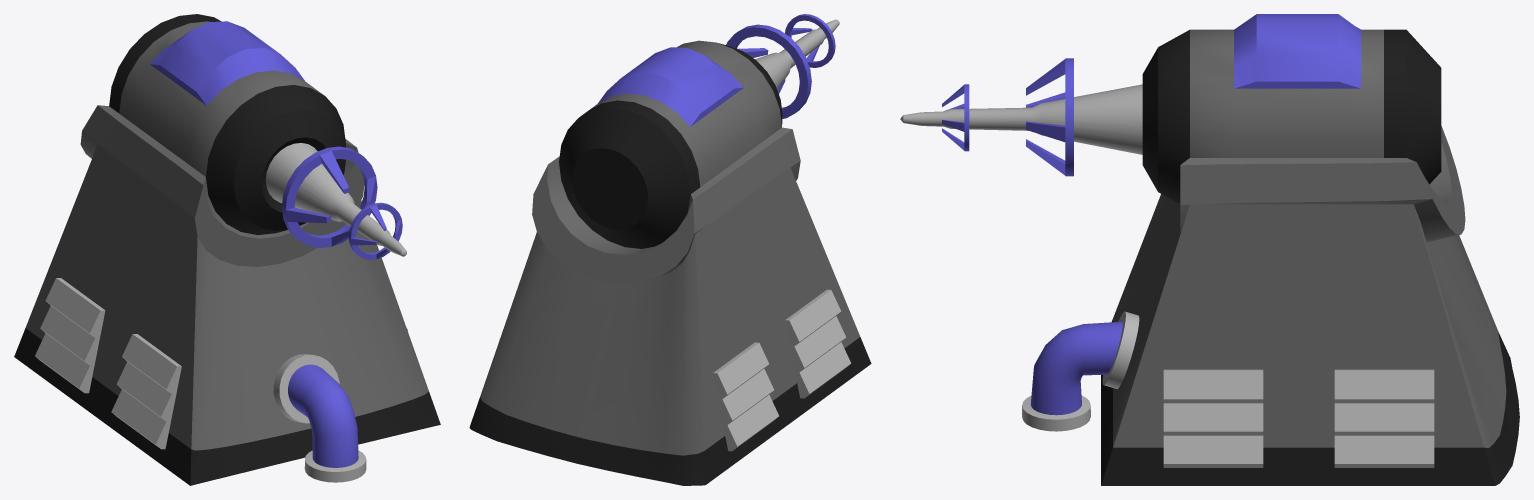
The model's file is laserSize1.glb.
The picture shows the model from 3 angles, left to right: view 1: azimuth 30°, elevation 25°; view 2: azimuth 150°, elevation 25°; view 3: azimuth 270°, elevation 25°; orthographic projection. The views are drawn at different scales.
Parts seen in each view (by area): view 1: Laser Size 1; view 2: Laser Size 1; view 3: Laser Size 1.
Part boxes in pixels (x1,y1,x2,y2): Laser Size 1: (14, 14, 440, 485); Laser Size 1: (469, 14, 871, 485); Laser Size 1: (900, 14, 1519, 485).
Bounding box in the file's own units: 0.5532 × 0.7143 × 1.01.
